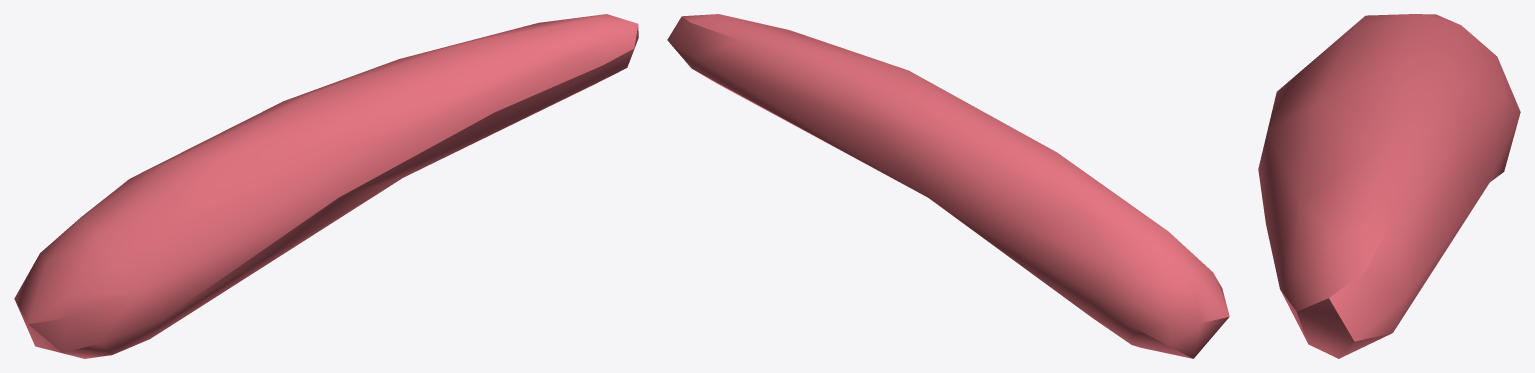
The model's file is fma9437_fj2963.glb.
The picture shows the model from 3 angles, left to right: view 1: azimuth 30°, elevation 25°; view 2: azimuth 150°, elevation 25°; view 3: azimuth 270°, elevation 25°; orthographic projection. The views are drawn at different scales.
Parts seen in each view (by area): view 1: FMA9437_FJ2963; view 2: FMA9437_FJ2963; view 3: FMA9437_FJ2963.
Part boxes in pixels (<box>): FMA9437_FJ2963: <box>14,14,638,358</box>; FMA9437_FJ2963: <box>667,14,1229,358</box>; FMA9437_FJ2963: <box>1258,14,1520,358</box>.
Bounding box in the file's own units: 0.00873 × 0.00316 × 0.00193.
